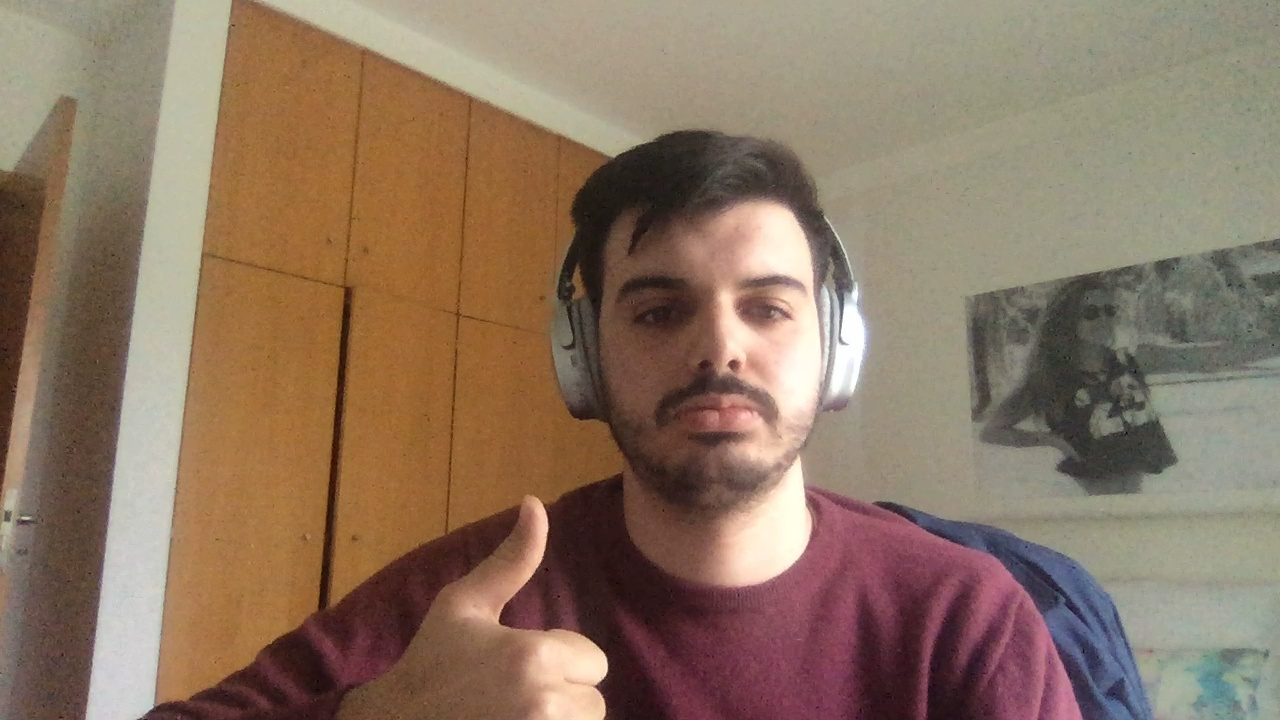ThumbsUp: (413, 492, 610, 720)
